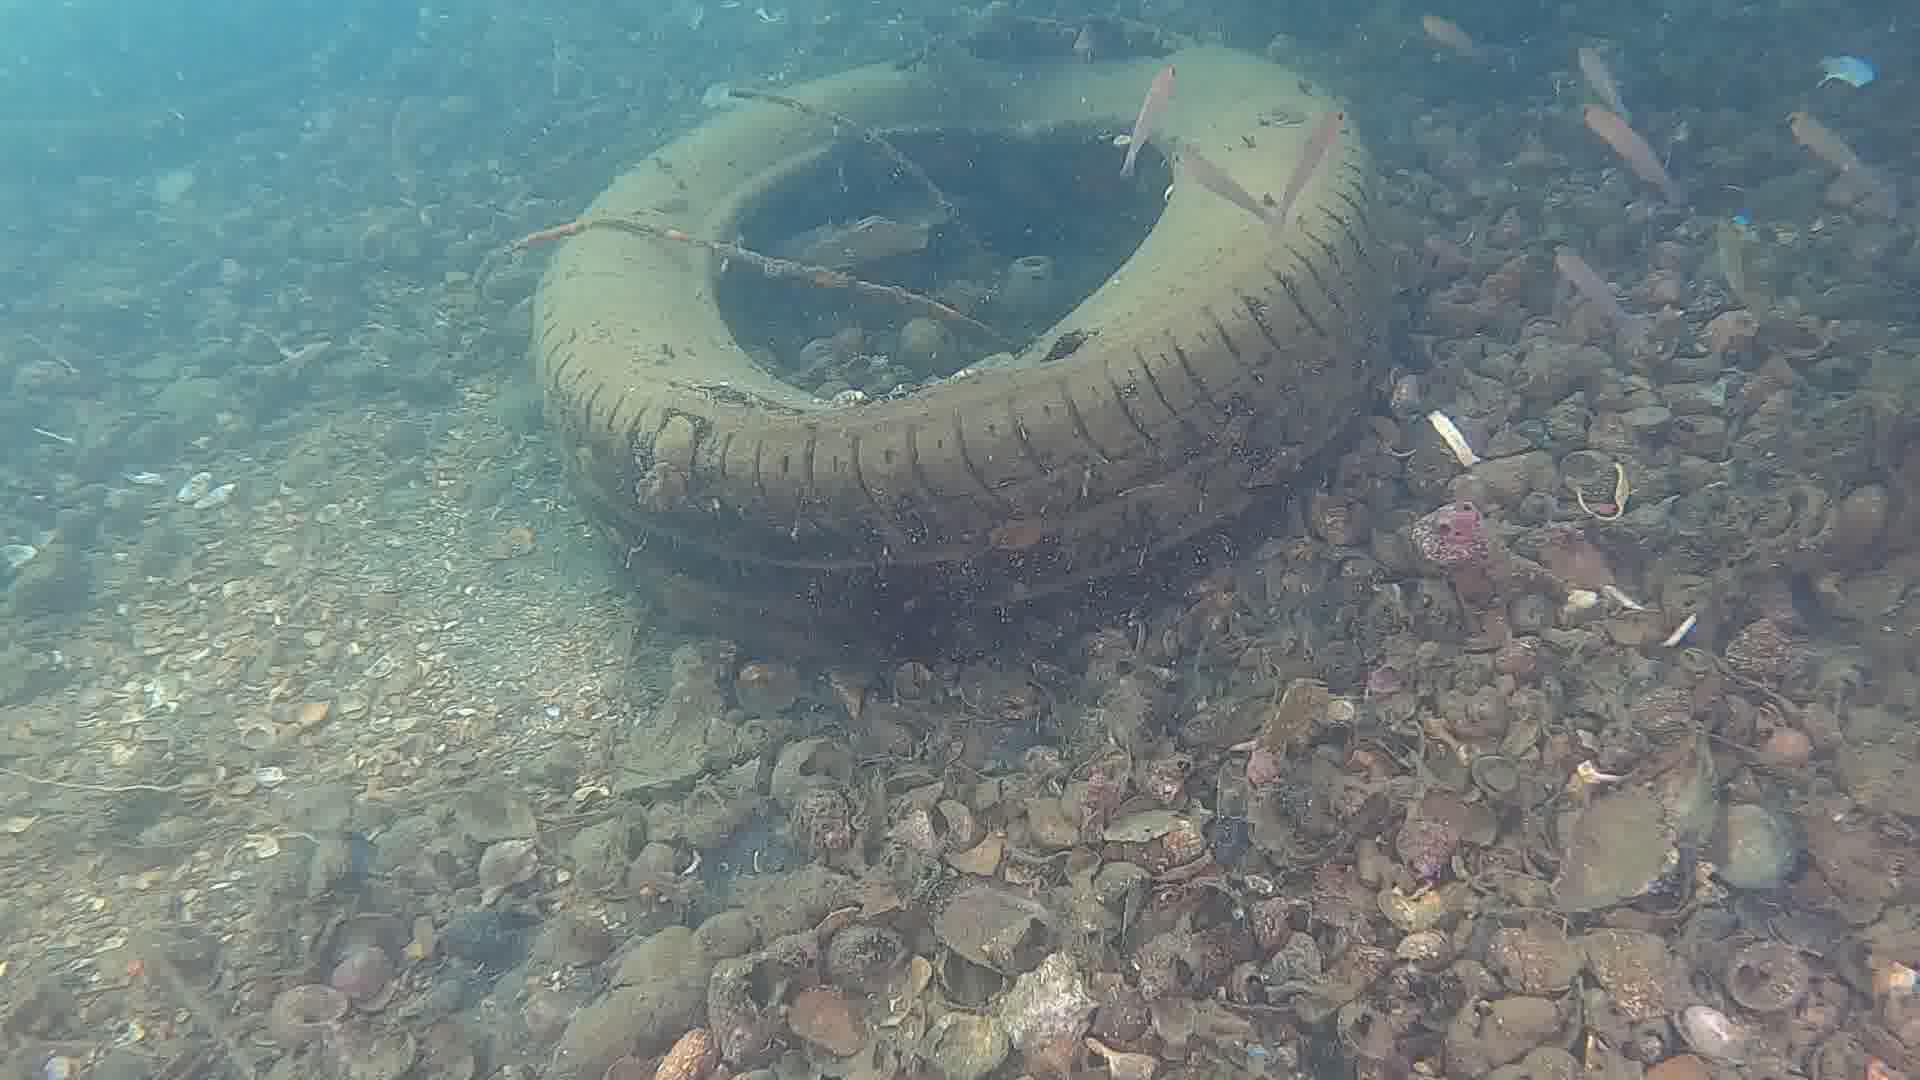tire: (537, 41, 1386, 655)
